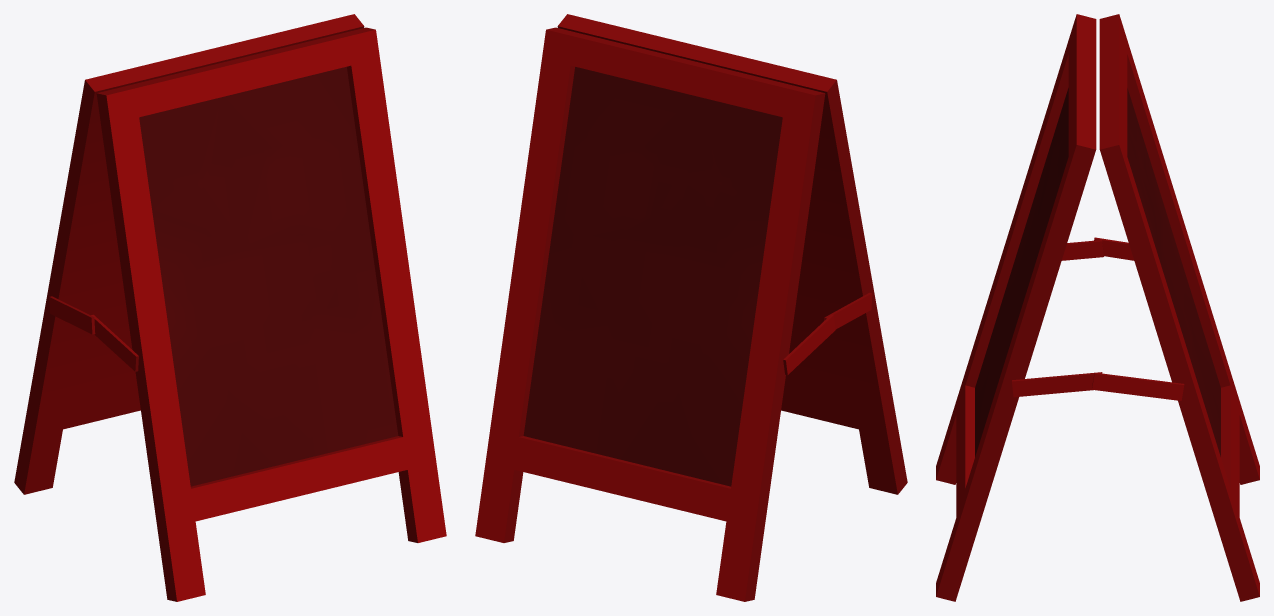
Rendered from SidewalkSign.glb.
3 views of the same model, side by side, from view 1: azimuth 30°, elevation 25°; view 2: azimuth 150°, elevation 25°; view 3: azimuth 270°, elevation 25° (orthographic).
Visible parts, largest first — view 1: SidewalkSign; view 2: SidewalkSign; view 3: SidewalkSign.
Part boxes in pixels (x1=…): SidewalkSign: x1=14, y1=14, x2=446, y2=601; SidewalkSign: x1=475, y1=14, x2=907, y2=601; SidewalkSign: x1=936, y1=14, x2=1259, y2=601.
Size of the model in its own units: 2.95 by 4.59 by 2.95.
